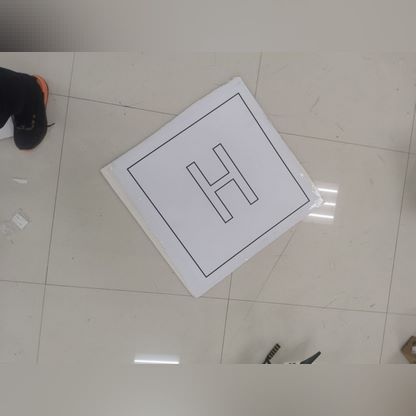H: (171, 132, 268, 223)
